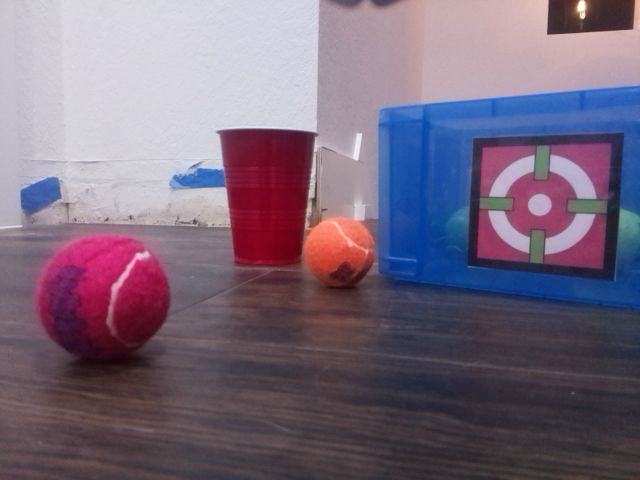drop-bin: (467, 132, 624, 280)
orange-ball: (302, 215, 377, 289)
red-ball: (35, 233, 172, 364)
